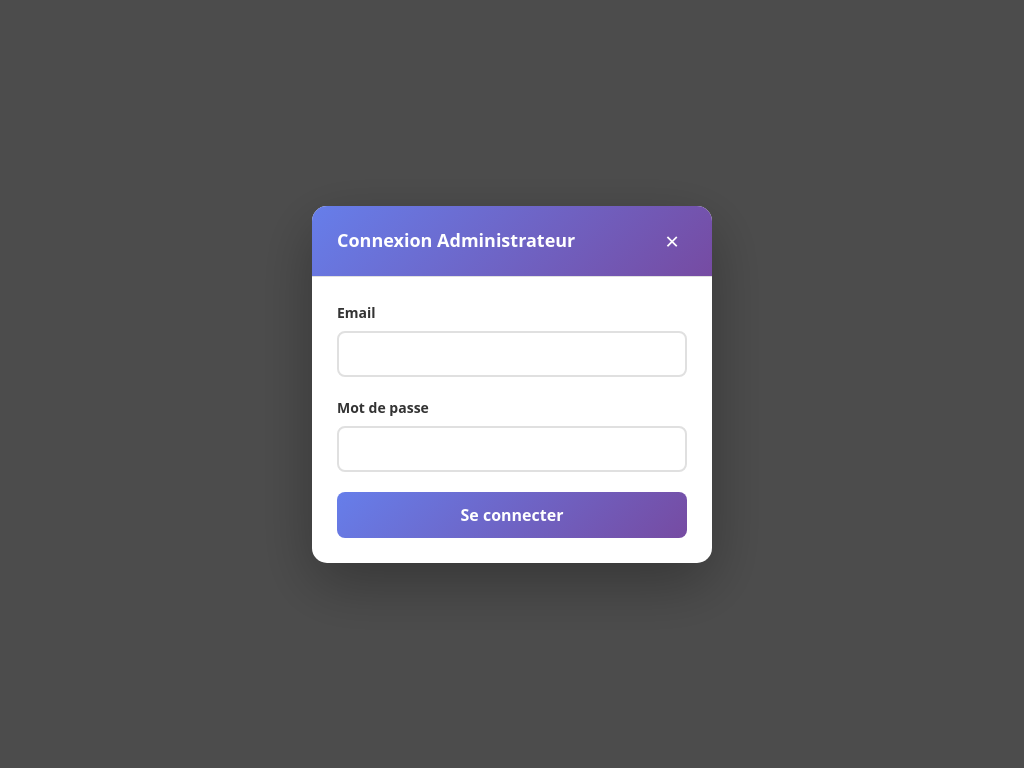
it: AdminLoginModal › affiche un message d'erreur générique si pas de détail dans la réponse
Type "wrong@example.com" into the field labelled "Email" at [512, 354], box [337,330,687,376]
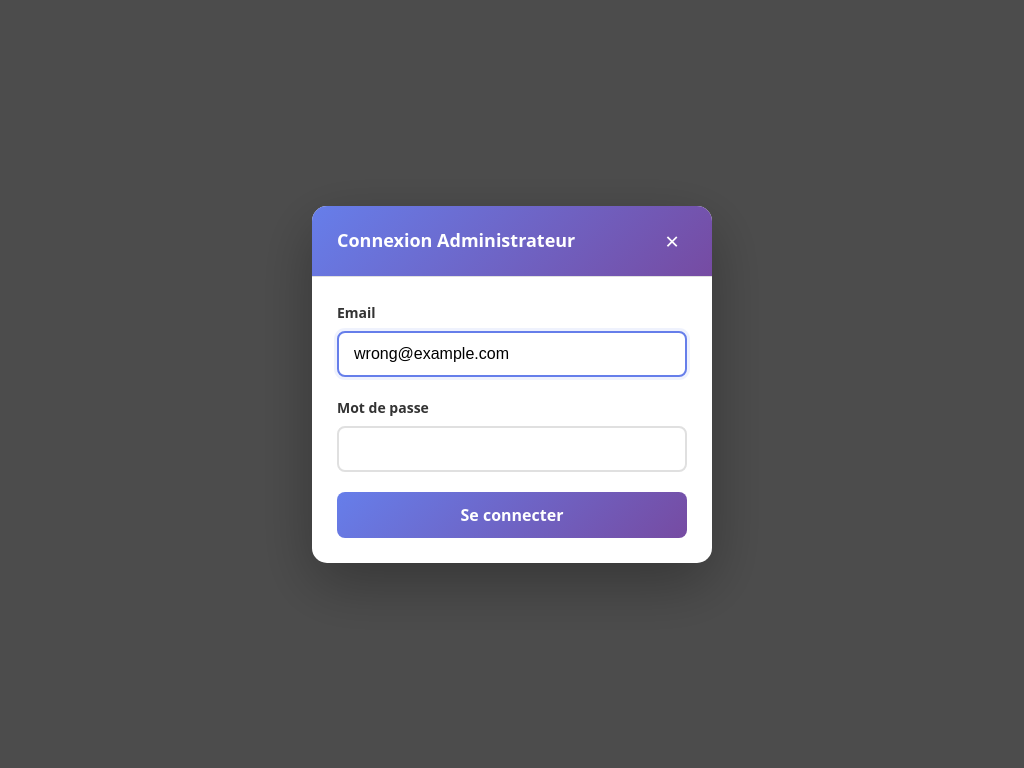
Type "wrongpassword" into the password field labelled "Mot de passe" at [512, 448], box [337,426,687,472]
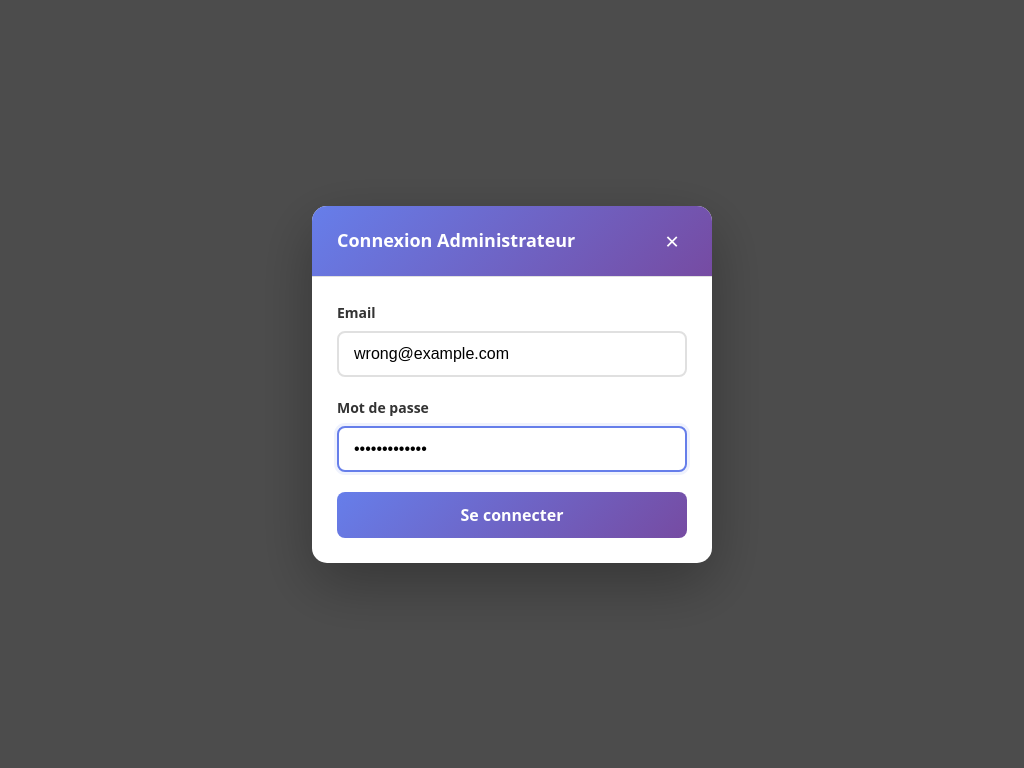
Click the button "Se connecter" at [512, 514], box [337,492,687,538]
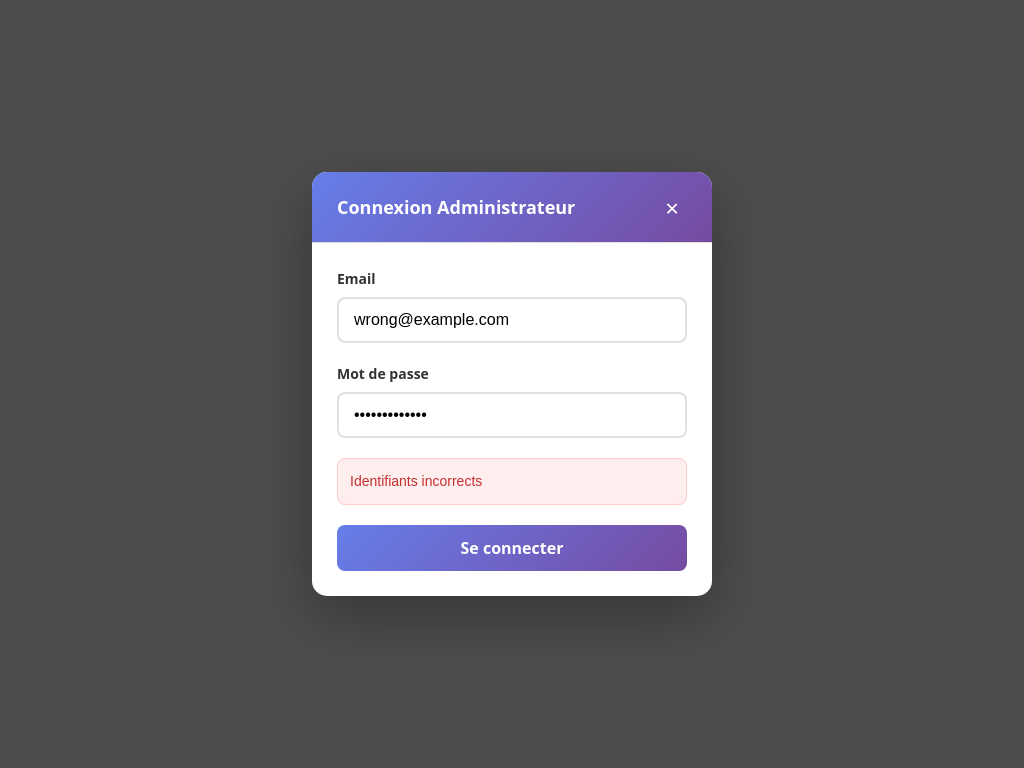
Expected: the text "Identifiants incorrects" is shown, [337,458,687,505]
